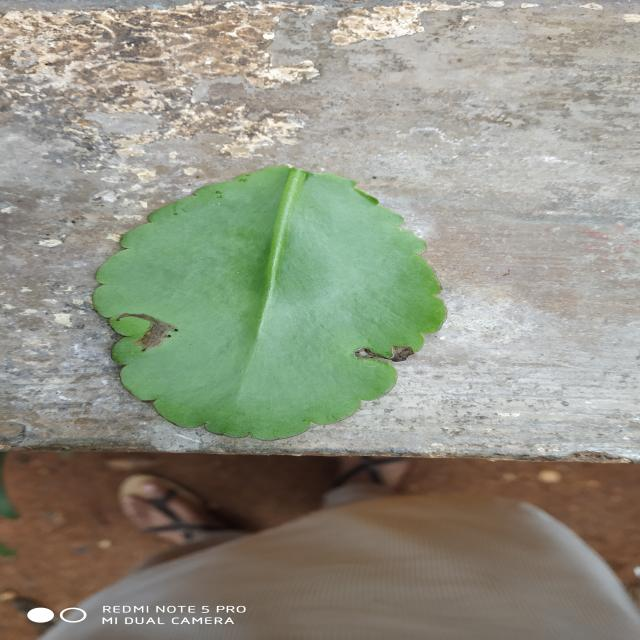defectedspinach: (109, 312, 178, 364), (353, 346, 416, 361)
spinach: (93, 166, 444, 440)
